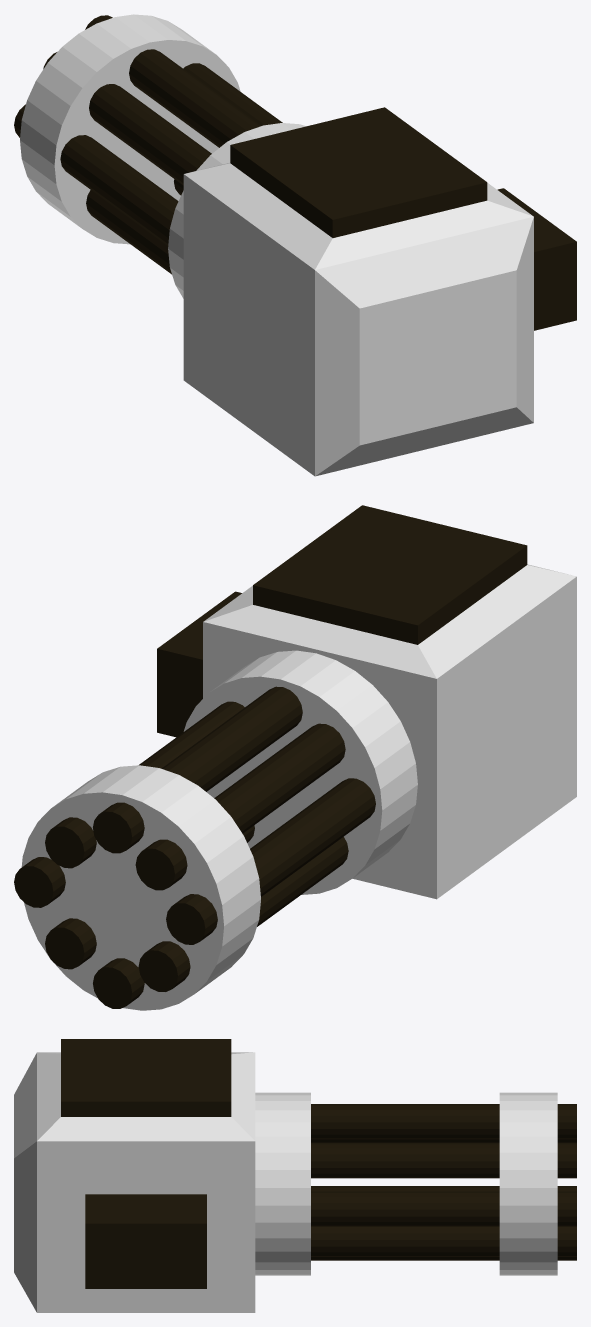
Rendered from Machinegun.fbx.
3 renders of one model, top to bottom at view 1: azimuth 30°, elevation 25°; view 2: azimuth 150°, elevation 25°; view 3: azimuth 270°, elevation 25°, orthographic. The views are drawn at different scales.
Visible parts, largest first — view 1: Cube.001, Cube; view 2: Cube, Cube.001; view 3: Cube.001, Cube.
Part boxes in pixels (x1,y1,x2,y2): Cube.001: (183, 107, 576, 476); Cube: (14, 14, 305, 298); Cube: (14, 650, 417, 1010); Cube.001: (157, 505, 576, 899); Cube.001: (14, 1039, 255, 1312); Cube: (255, 1092, 576, 1275).
Bounding box in the file's own units: 110 × 86.3 × 222.
